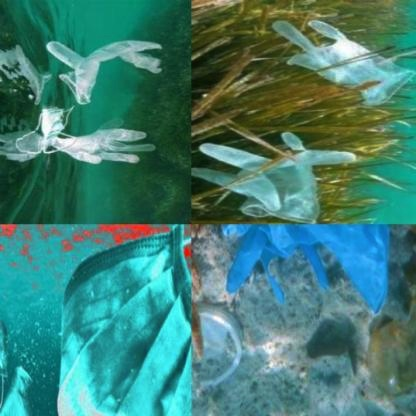Mask: (64, 224, 191, 415), (30, 102, 84, 155), (0, 294, 12, 412)
glove: (191, 129, 366, 224), (226, 224, 392, 312), (268, 15, 415, 107), (49, 34, 166, 105), (55, 115, 158, 168)
